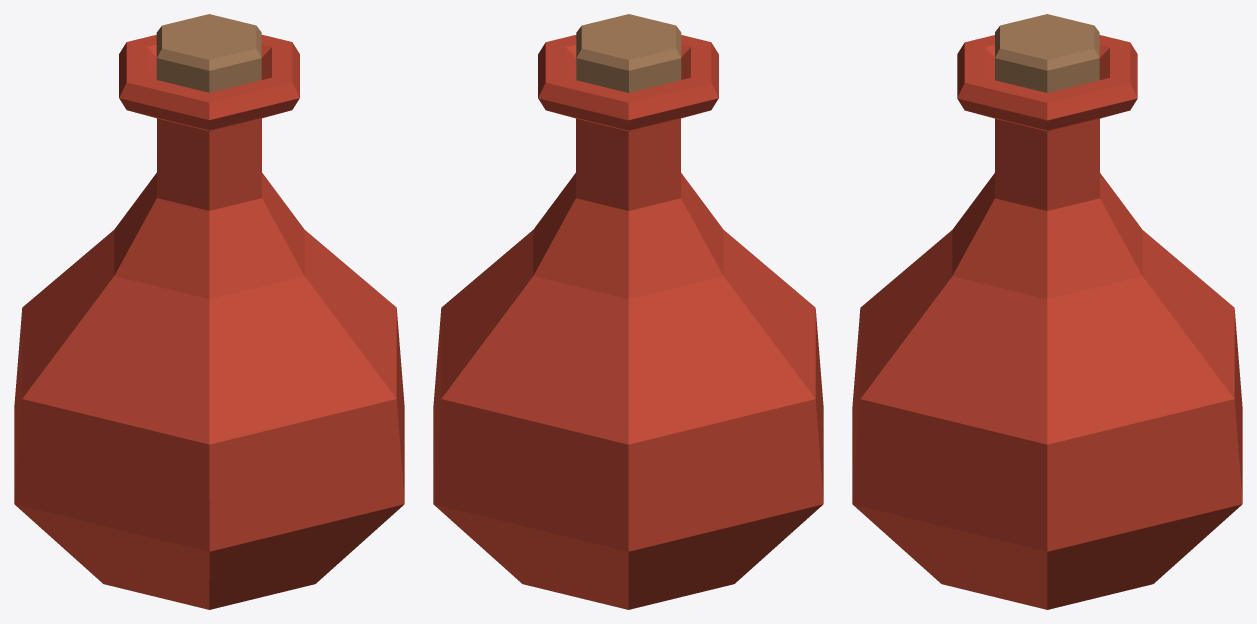
File: potion_3.glb
3 renders of one model, left to right at view 1: azimuth 30°, elevation 25°; view 2: azimuth 150°, elevation 25°; view 3: azimuth 270°, elevation 25°, orthographic.
Visible parts, largest first — view 1: potion_3; view 2: potion_3; view 3: potion_3.
Boxes of the visible parts, box(x1,y1,x2,y2) form: potion_3: box(14, 14, 404, 609); potion_3: box(433, 14, 823, 609); potion_3: box(852, 14, 1242, 609).
Bounding box in the file's own units: 0.2188 × 0.279 × 0.1895.
Materials: 2 (2 with a texture image).
